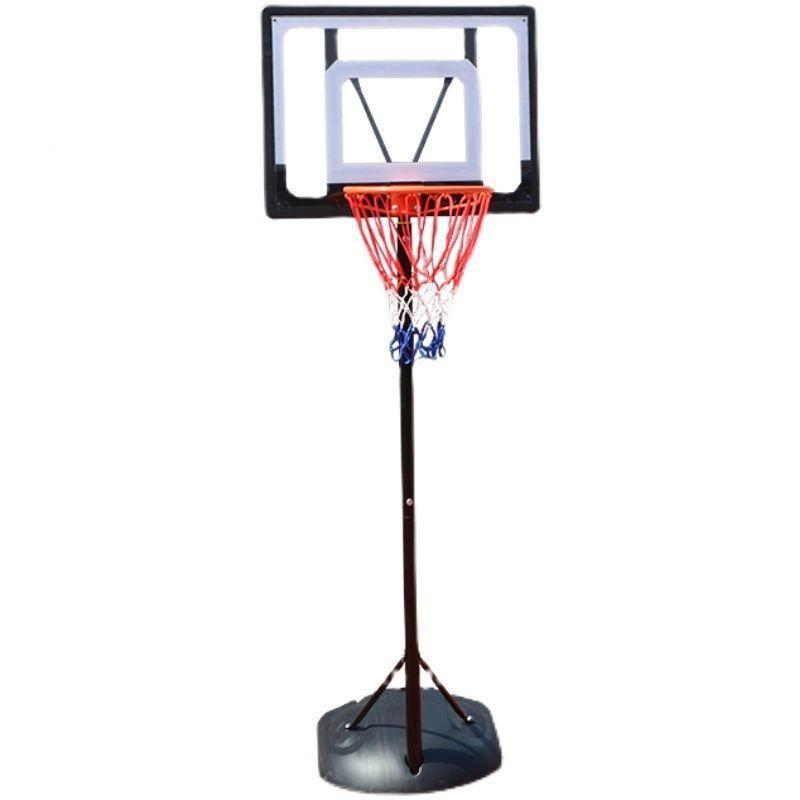rim: (339, 184, 493, 363)
